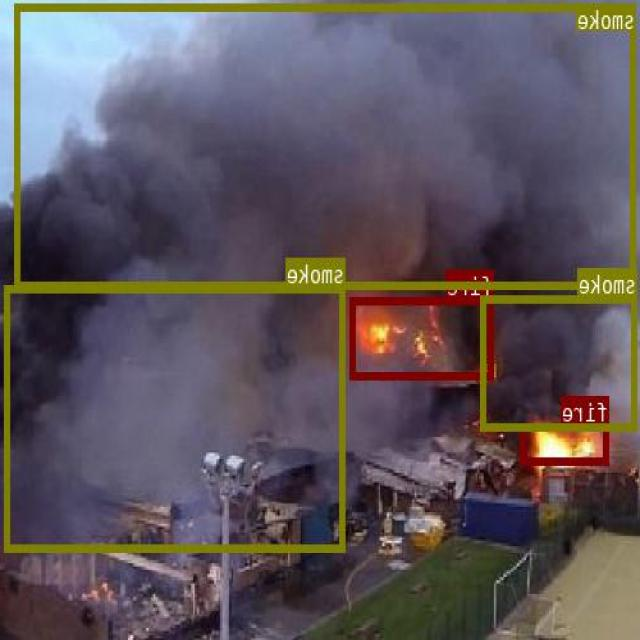fire: (352, 296, 494, 378), (522, 422, 610, 464)
smoke: (16, 3, 637, 287), (6, 284, 346, 551), (482, 294, 638, 429)
